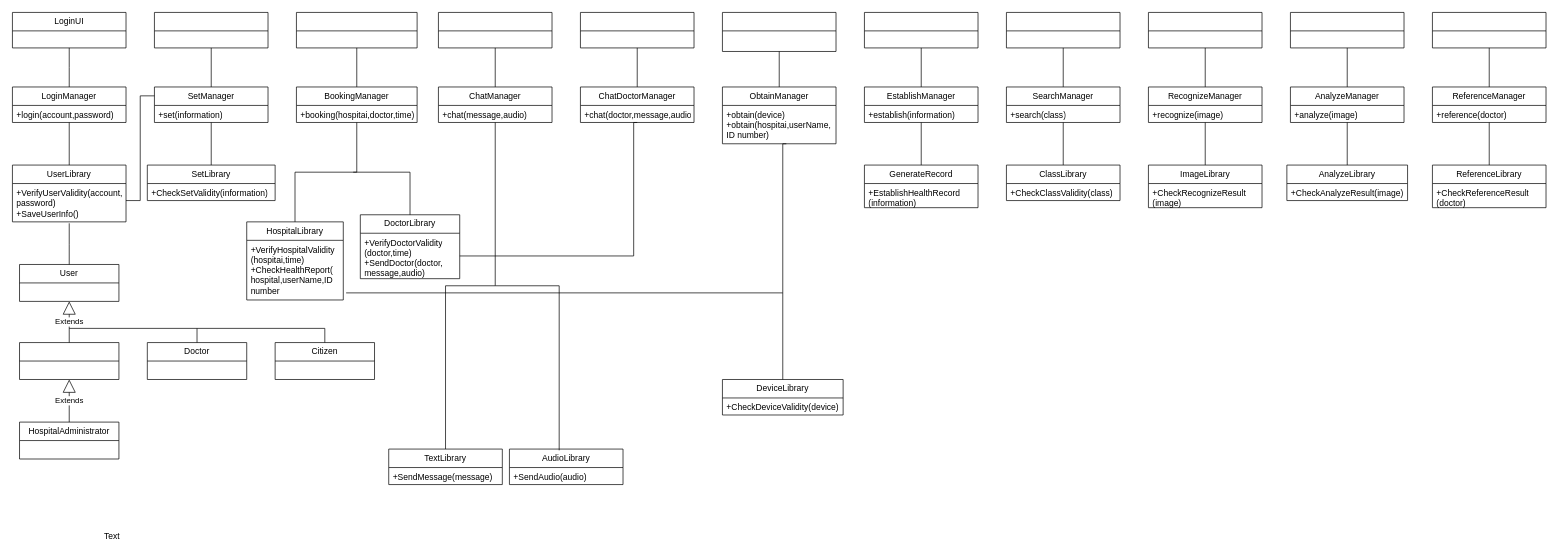
Some shapes in this 1558 by 559 pixel diagram are drawn without their labels. Here are the shapes that lost their labels. From the top down, the centre of each, then its label:
At (x=211, y=30): "SetUI".
At (x=356, y=30): "BookingUI".
At (x=495, y=30): "ChatUI".
At (x=637, y=30): "ChatDoctorUI".
At (x=779, y=31): "ObtainUI".
At (x=921, y=30): "EstablishUI".
At (x=1063, y=30): "SearchUI".
At (x=1205, y=30): "RecognizeUI".
At (x=1347, y=30): "AnalyzeUI".
At (x=1489, y=30): "ReferenceUI".
At (x=69, y=360): "Administrator".
